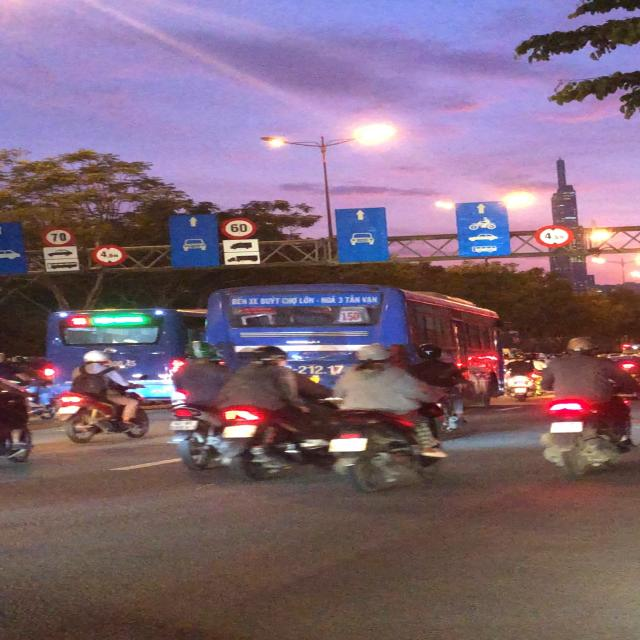Bien bao han che chieu cao: (526, 221, 576, 249), (90, 243, 131, 265)
Bien bao toc do toi da cho phep: (218, 216, 261, 238), (39, 225, 80, 246)
